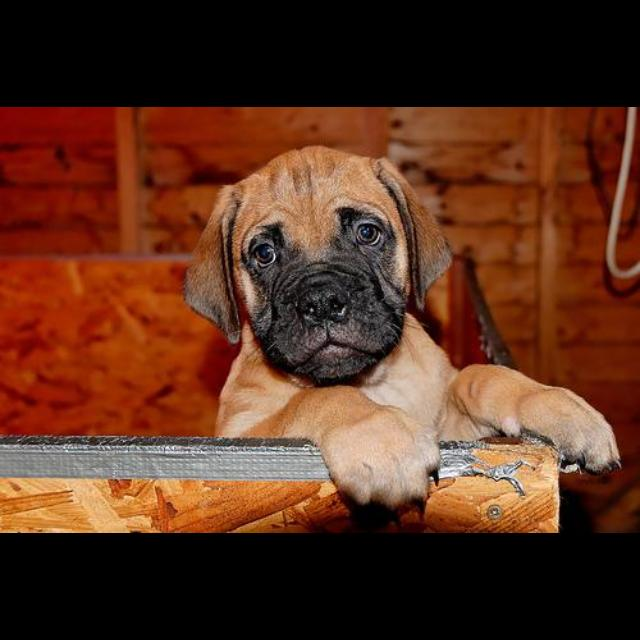bullmastiff: (183, 145, 623, 522)
